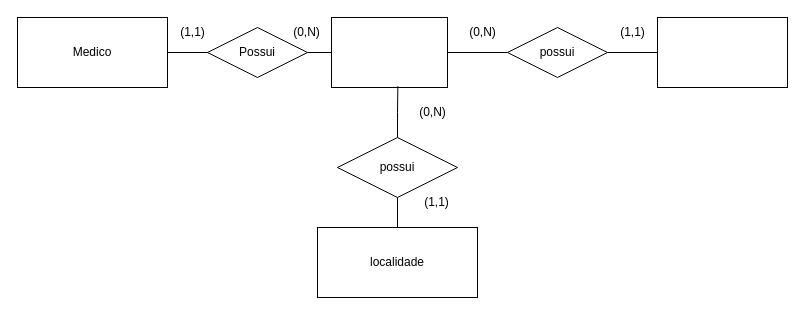
This 805x315 diagram has some shape labels left out. The centre of each missing label's shape, as x and y in pixels:
consulta: the point at 389,52
paciente: the point at 722,52
